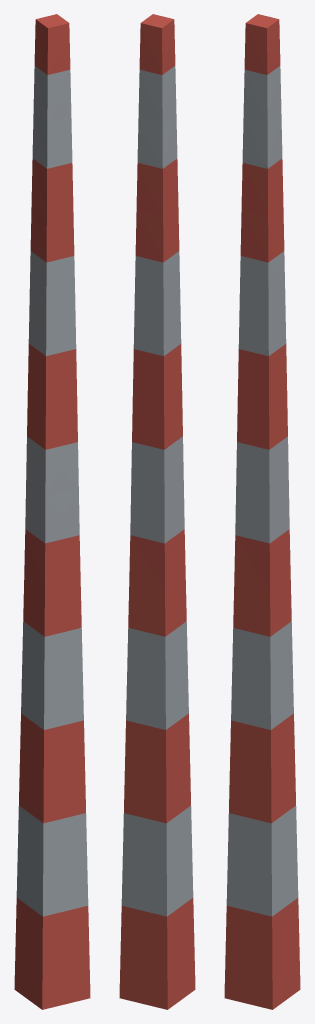
Rendered from radio_tower_collision.glb.
3 views of the same model, side by side, from view 1: azimuth 30°, elevation 25°; view 2: azimuth 150°, elevation 25°; view 3: azimuth 330°, elevation 25° (orthographic).
Visible parts, largest first — view 1: Radio tower collision; view 2: Radio tower collision; view 3: Radio tower collision.
Part boxes in pixels (bbox=[...]): Radio tower collision: bbox=[14, 14, 90, 1009]; Radio tower collision: bbox=[119, 14, 195, 1009]; Radio tower collision: bbox=[224, 14, 300, 1009].
Size of the model in its own units: 2.08 by 40.12 by 2.08.
